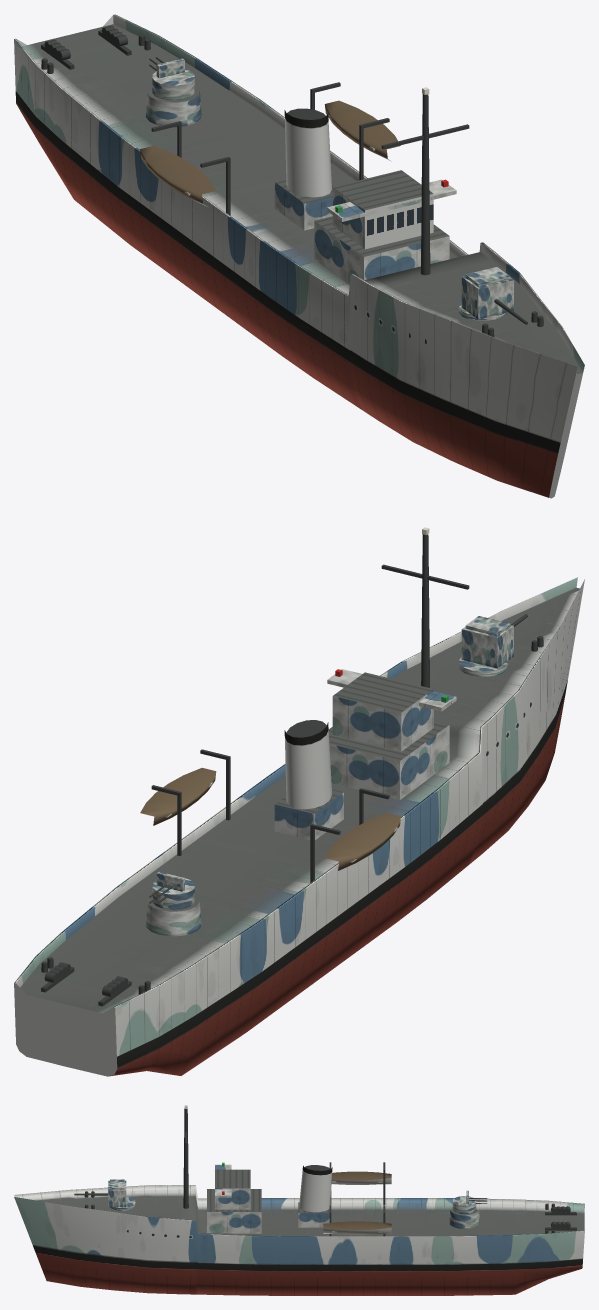
The model's file is escort.glb.
3 renders of one model, top to bottom at view 1: azimuth 30°, elevation 25°; view 2: azimuth 150°, elevation 25°; view 3: azimuth 270°, elevation 25°, orthographic. The views are drawn at different scales.
Visible parts, largest first — view 1: hull, turret_1, boat_right, boat_left, turret_2; view 2: hull, turret_1, boat_right, boat_left, turret_2; view 3: hull, boat_left, boat_right, turret_1, turret_2.
Part boxes in pixels (<box>): hull: <box>14,14,584,498</box>; turret_1: <box>459,267,513,320</box>; boat_right: <box>140,145,215,206</box>; boat_left: <box>324,100,400,161</box>; turret_2: <box>152,58,194,100</box>; hull: <box>14,527,584,1076</box>; turret_1: <box>459,616,513,676</box>; boat_right: <box>325,813,400,870</box>; boat_left: <box>140,768,216,825</box>; turret_2: <box>152,871,194,909</box>; hull: <box>14,1105,584,1295</box>; boat_left: <box>323,1221,391,1234</box>; boat_right: <box>331,1171,391,1184</box>; turret_1: <box>108,1179,135,1210</box>; turret_2: <box>452,1190,476,1213</box>.
Bounding box in the file's own units: 15.15 × 21.2 × 62.5.
Materials: 5 (5 with a texture image).
